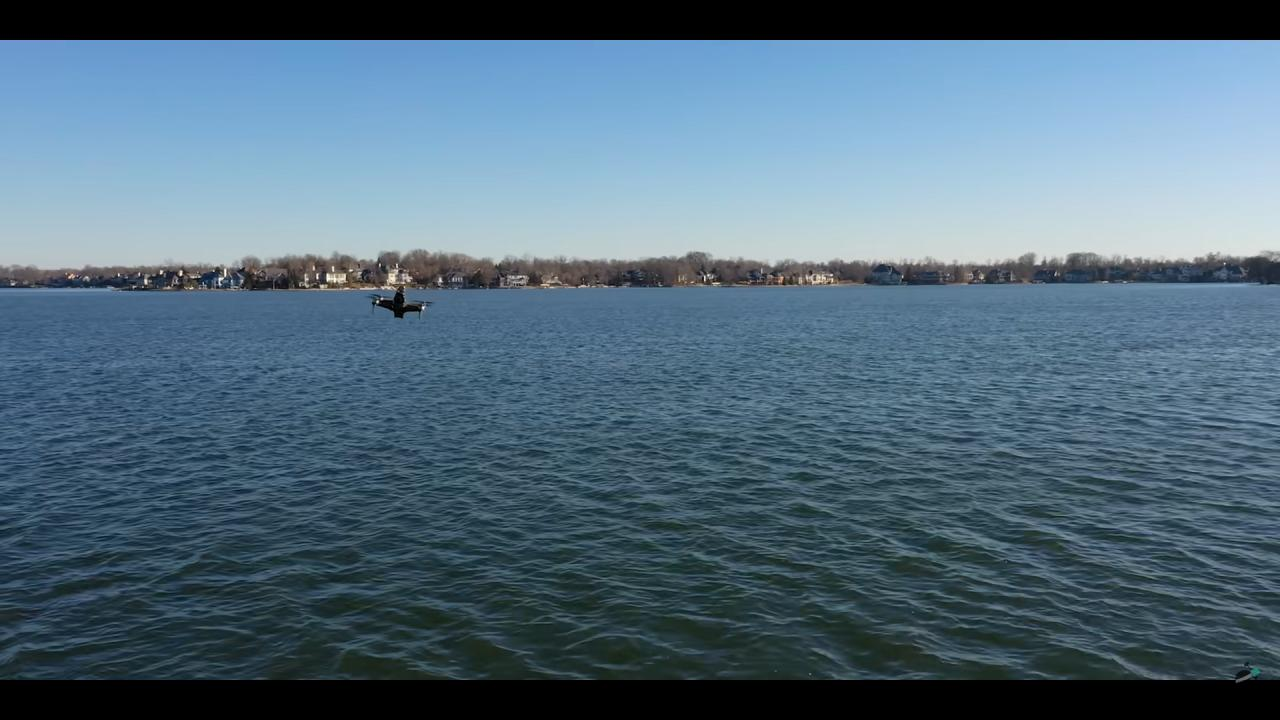Drone: (361, 273, 439, 328)
